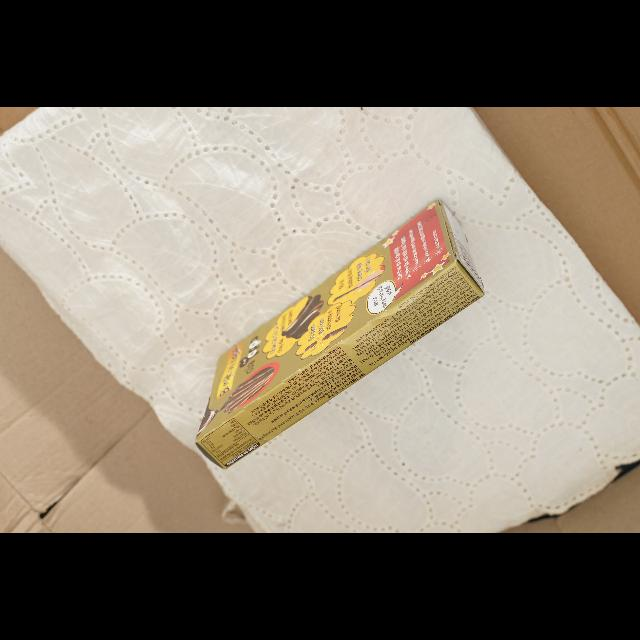banh_toppo_socola: (196, 201, 484, 469)
